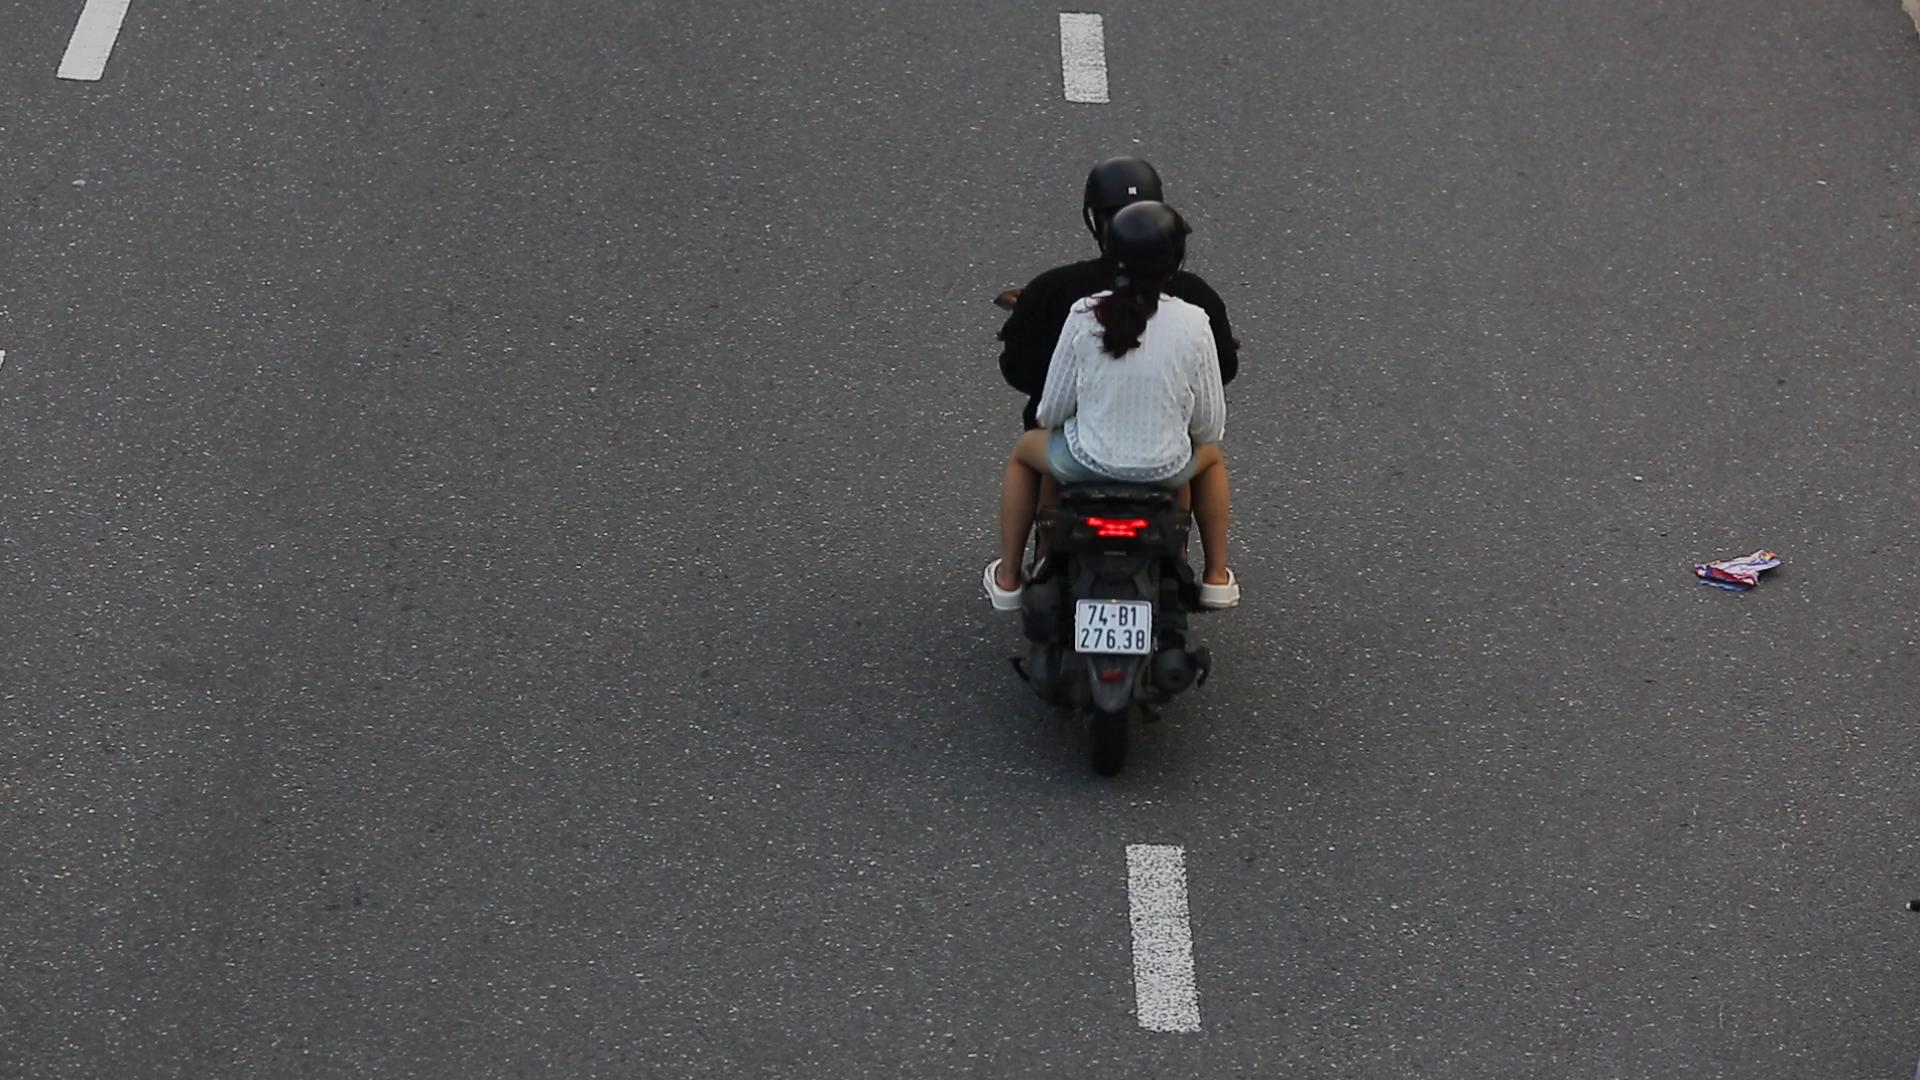motobike: (975, 148, 1287, 803)
